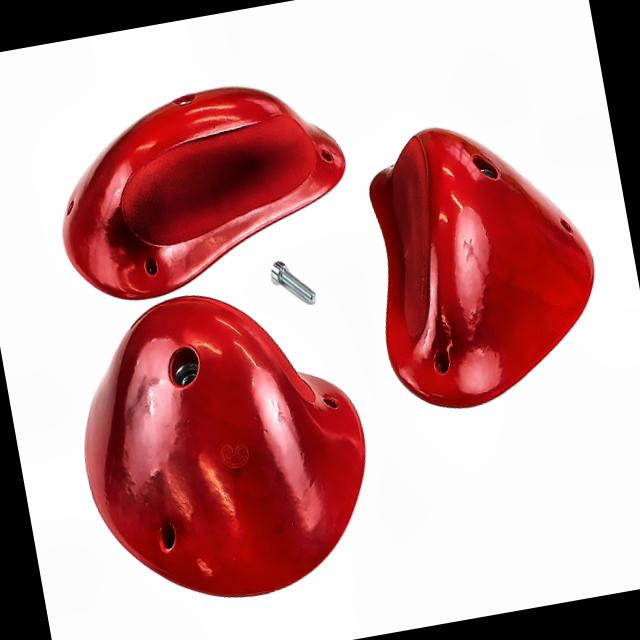Hold: (57, 276, 388, 614), (37, 64, 368, 310), (358, 96, 612, 415)
